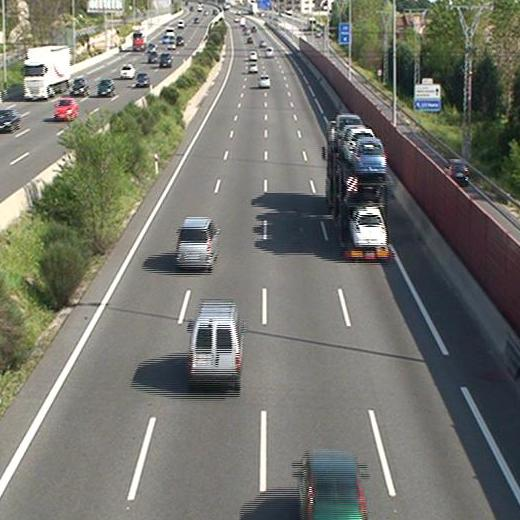car: (297, 454, 368, 520), (175, 220, 218, 268), (350, 211, 386, 245), (352, 140, 385, 173), (258, 74, 270, 88), (247, 61, 255, 71)
truck: (328, 124, 389, 258)
van: (189, 306, 240, 384)
